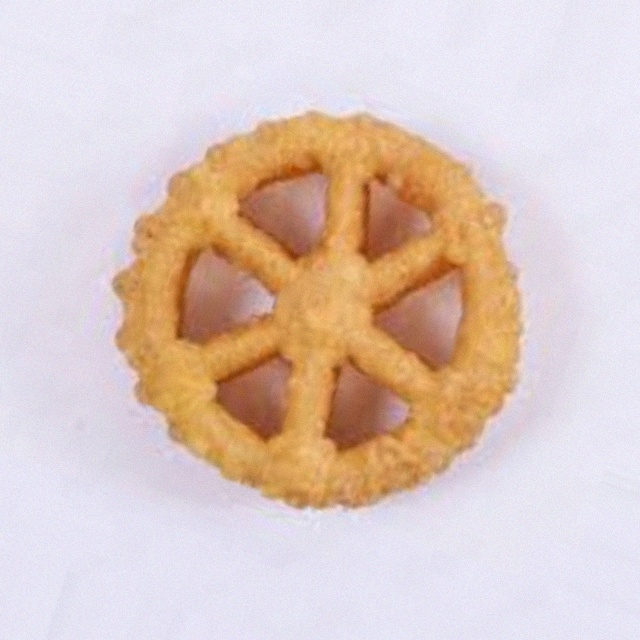Kokis: (98, 99, 542, 541)
